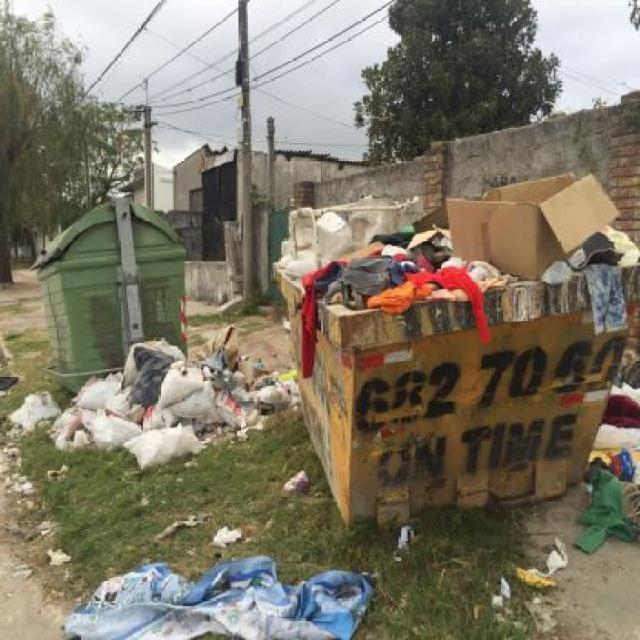garbage: (20, 328, 292, 486), (60, 553, 378, 636), (278, 195, 494, 306), (577, 449, 640, 556)
